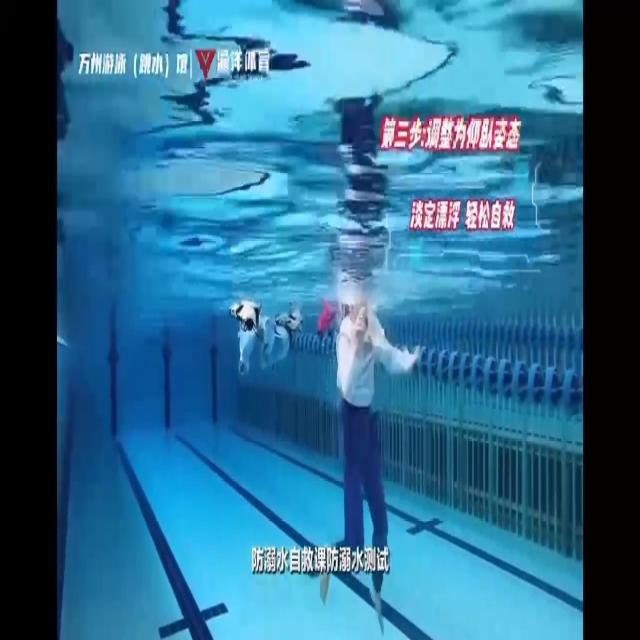Drowning: (319, 301, 417, 633)
